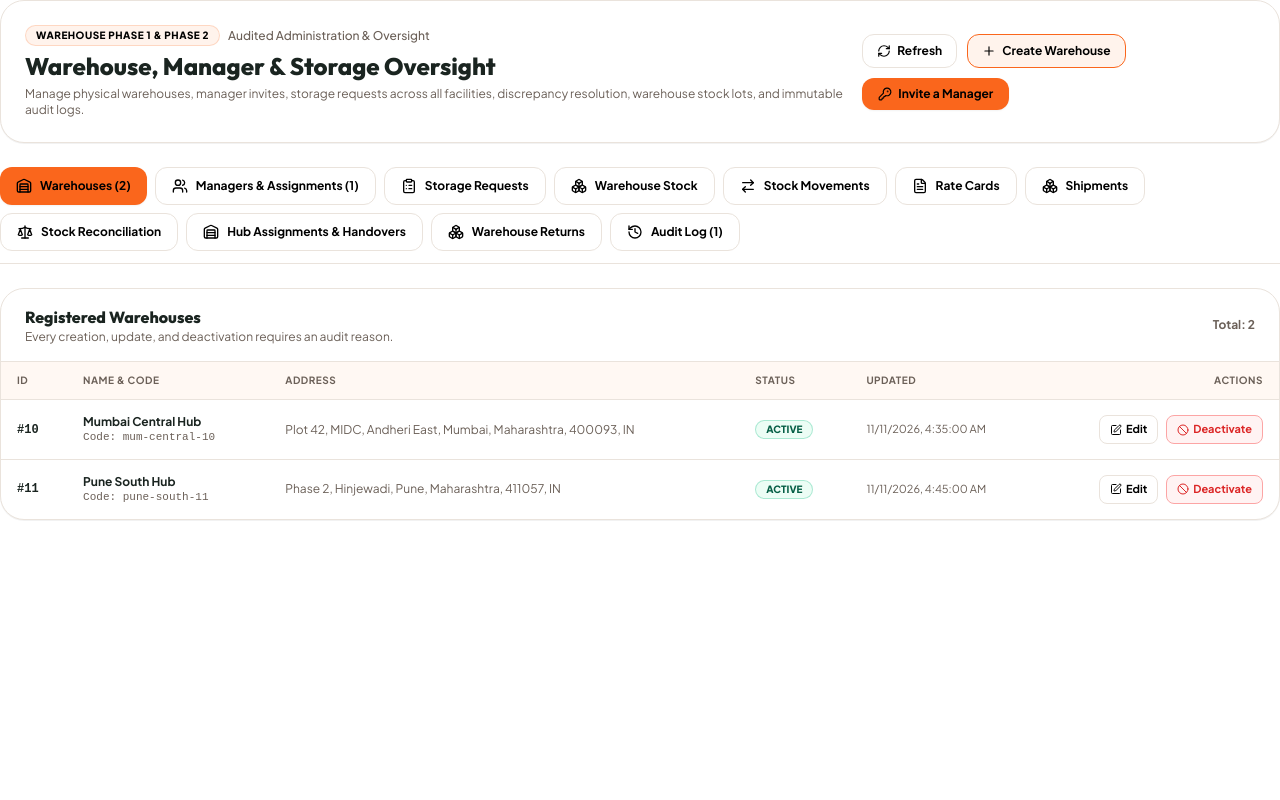
Scenario: WarehouseModule — Admin Warehouse & Manager Screens › 3. executes manager actions (reissue, revoke, assign, end-assignment, deactivate) with required reason and renders audit tab
The width and height of the screenshot is (1280, 800).
Expected: the text "Mumbai Central Hub" is shown, top-left (83, 414), bottom-right (201, 429)
Note: Switch to Managers tab
Step 1. Click the button with test id "warehouse-tab-managers" → (265, 186), box top-left (155, 167), bottom-right (376, 205)
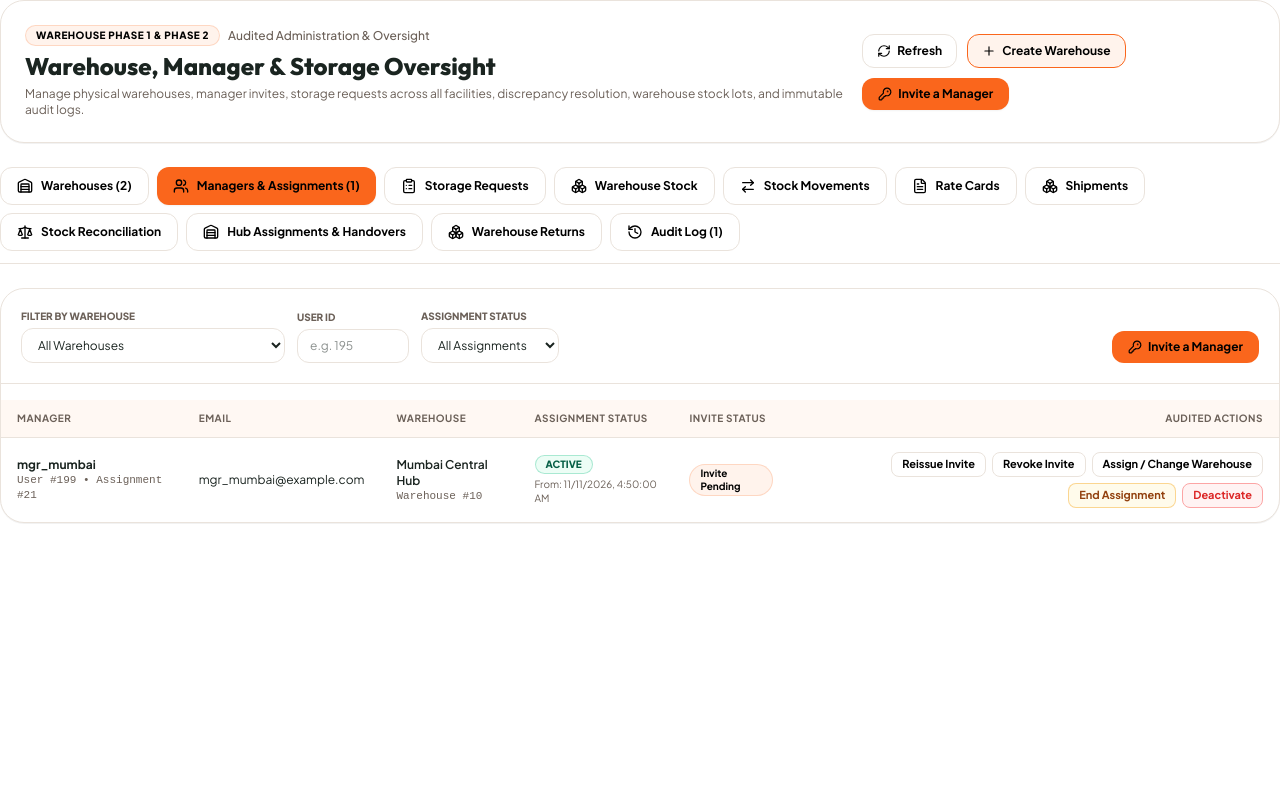
Now the text "mgr_mumbai" is shown, box top-left (17, 457), bottom-right (96, 472)
Now the text "mgr_mumbai@example.com" is shown, box top-left (183, 438), bottom-right (380, 522)
Note: Deactivate manager with reason
Step 2. Click the button with test id "deactivate-manager-btn-199" → (1223, 495), box top-left (1182, 483), bottom-right (1263, 508)
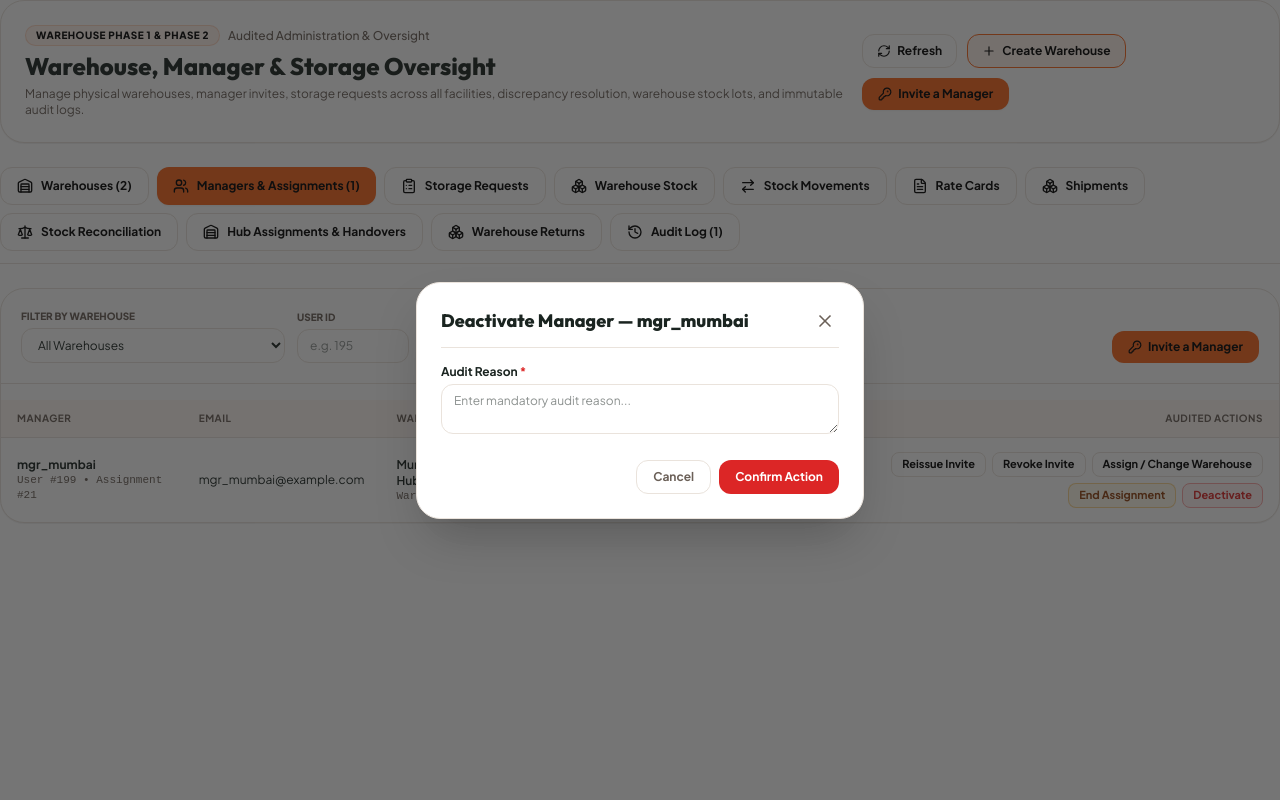
Now the dialog with test id "manager-action-modal" is shown
Step 3. Type "End of contract" into the text box with test id "manager-action-reason-input" → (640, 408), box top-left (441, 384), bottom-right (839, 434)
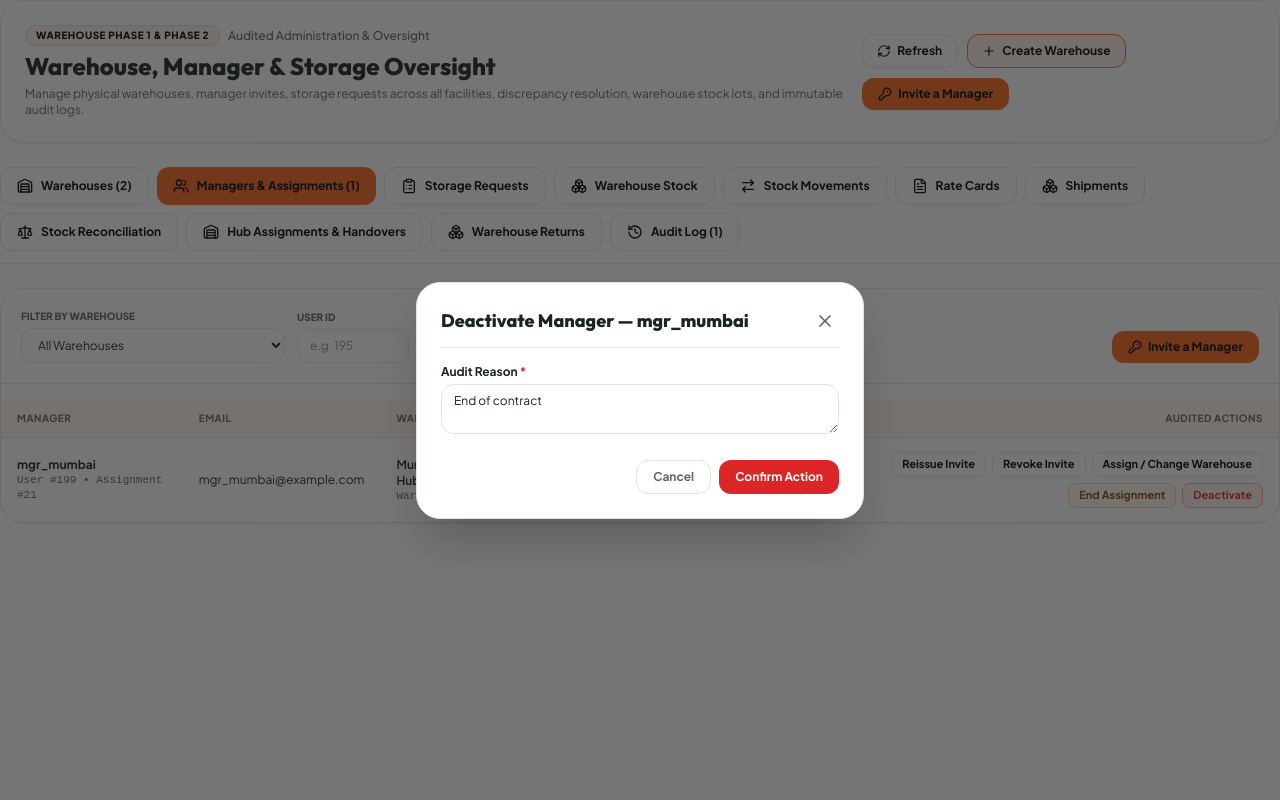
Step 4. Click the button with test id "manager-action-submit-btn" → (779, 476), box top-left (719, 460), bottom-right (839, 494)
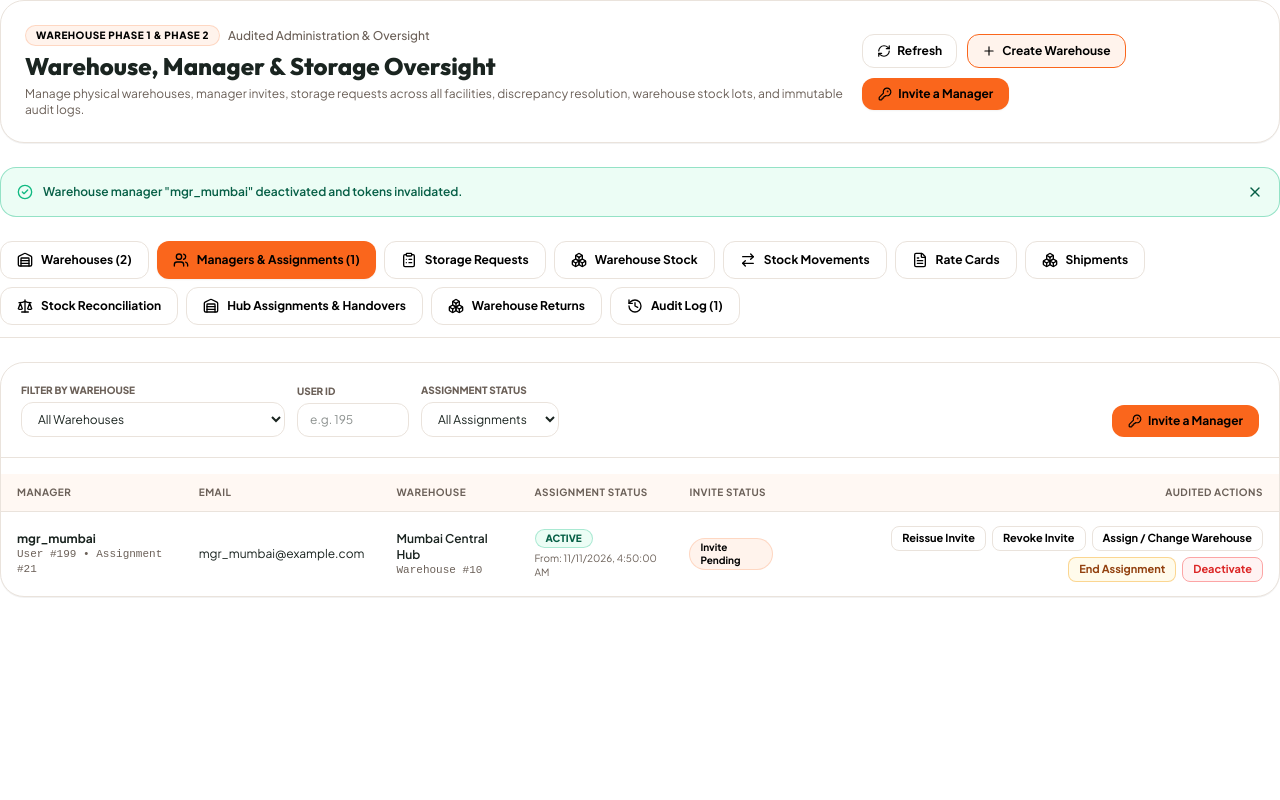
Now the message with test id "warehouse-feedback-banner" reads "Warehouse manager \"mgr_mumbai\" deactivated and tokens invalidated.", box top-left (43, 184), bottom-right (462, 199)
Note: Switch to Audit tab
Step 5. Click the button with test id "warehouse-tab-audit" → (675, 306), box top-left (610, 287), bottom-right (740, 325)
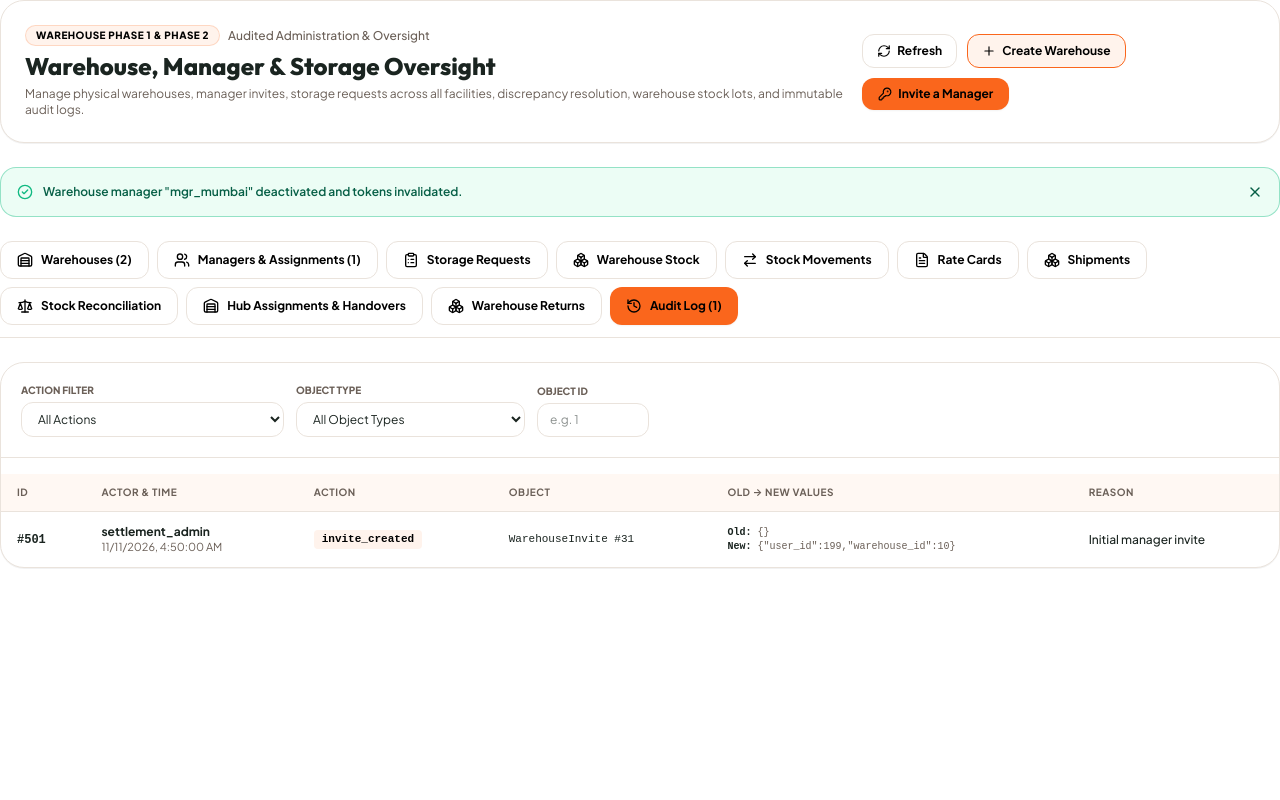
Now the row with test id "audit-row-501" shows "invite_created", box top-left (322, 533), bottom-right (414, 545)
Now the text "Initial manager invite" is shown, box top-left (1073, 512), bottom-right (1279, 567)
